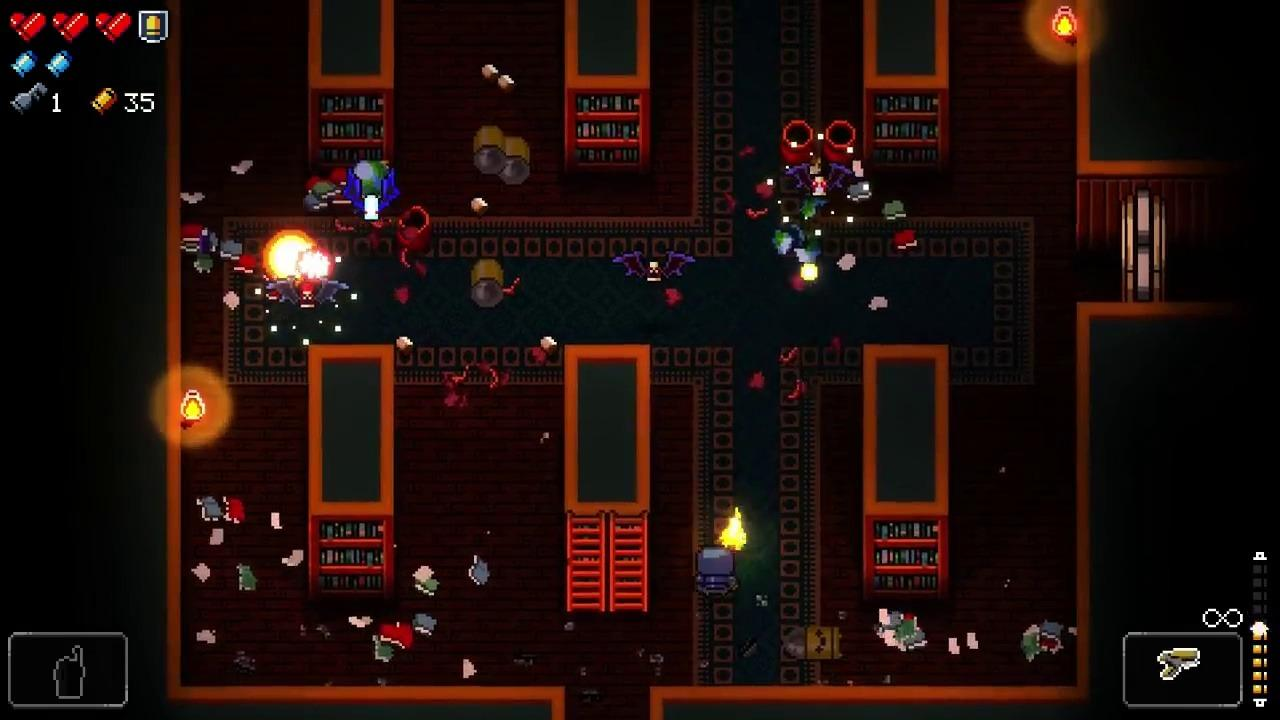bullat: (612, 245, 695, 286), (783, 161, 853, 200)
dead_bullet_kin: (784, 626, 841, 662), (470, 259, 505, 310), (473, 126, 507, 175), (502, 139, 532, 189)
locked_door: (1122, 189, 1166, 302)
player: (694, 546, 739, 600)
shotgat: (259, 278, 351, 310)
spirat: (342, 167, 402, 223)
